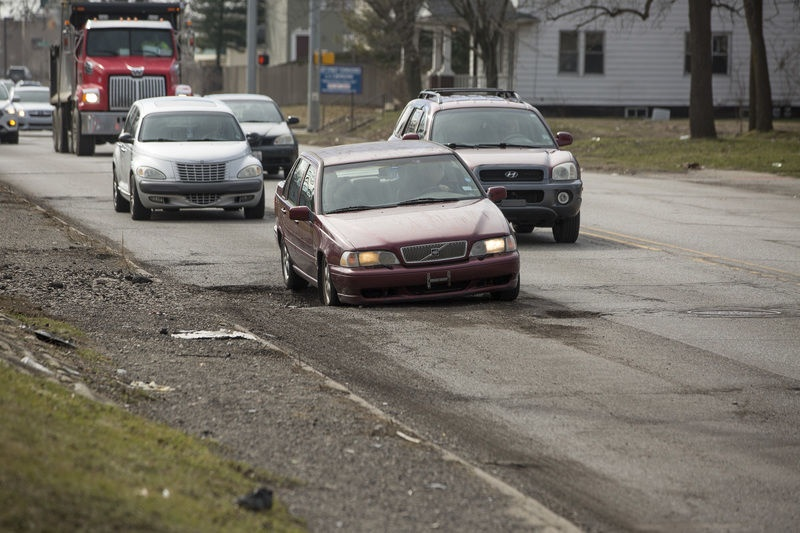pothole: (186, 262, 310, 310)
